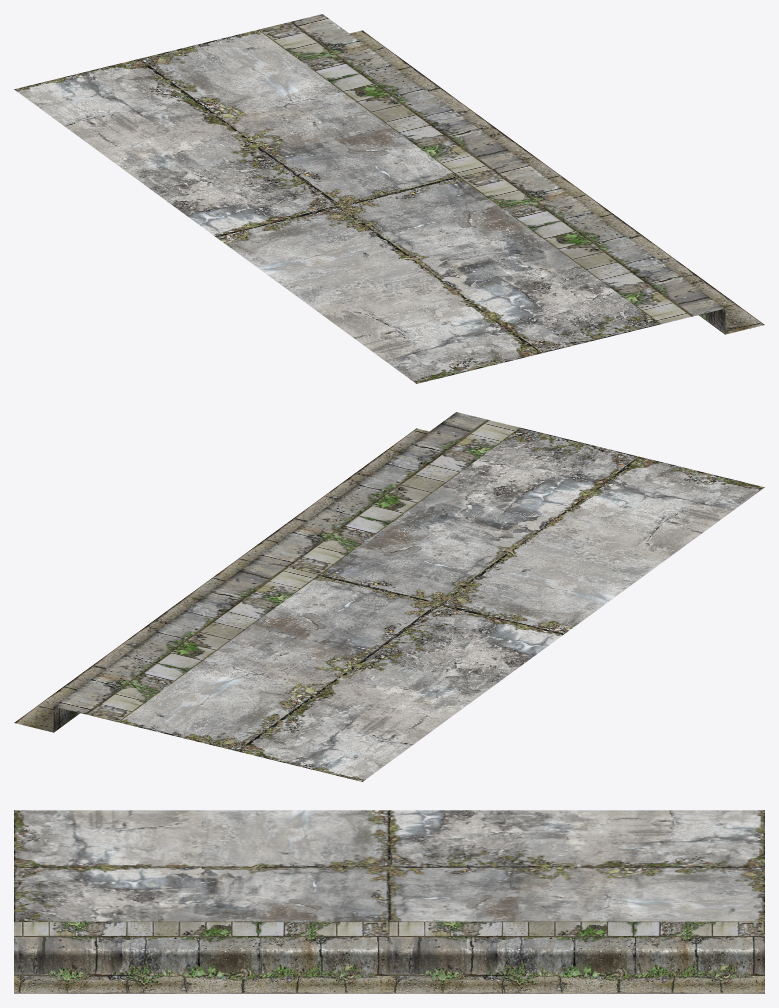
File: Sidewalk2_LongA.fbx
3 views of the same model, one above another, from view 1: azimuth 30°, elevation 25°; view 2: azimuth 150°, elevation 25°; view 3: azimuth 270°, elevation 25° (orthographic). The views are drawn at different scales.
Visible parts, largest first — view 1: Sidewalk2_LongA; view 2: Sidewalk2_LongA; view 3: Sidewalk2_LongA.
Boxes of the visible parts, bbox=[...] form: Sidewalk2_LongA: bbox=[14, 14, 764, 383]; Sidewalk2_LongA: bbox=[14, 412, 764, 781]; Sidewalk2_LongA: bbox=[14, 810, 764, 993].
Size of the model in its own units: 350 by 25 by 700.
